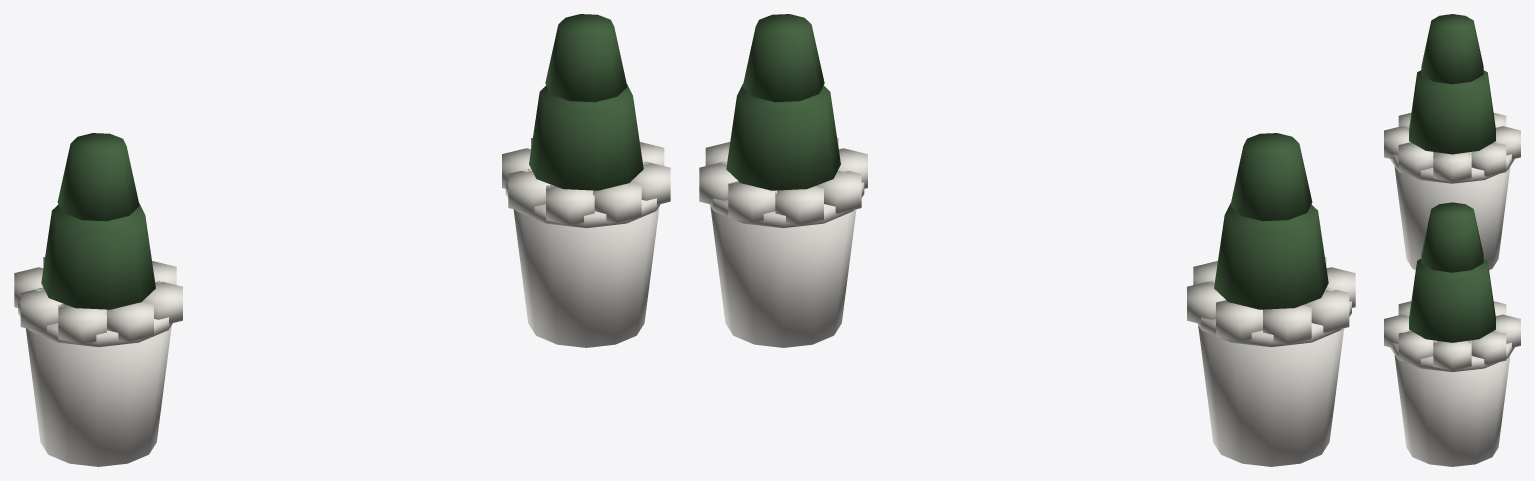
File: frontyard_porch_planters.glb
3 renders of one model, left to right at view 1: azimuth 30°, elevation 25°; view 2: azimuth 150°, elevation 25°; view 3: azimuth 270°, elevation 25°, orthographic. The views are drawn at different scales.
Visible parts, largest first — view 1: root; view 2: root; view 3: root.
Part boxes in pixels (bbox=[...]): root: bbox=[14, 14, 670, 466]; root: bbox=[699, 14, 1355, 466]; root: bbox=[1384, 14, 1520, 466].
Size of the model in its own units: 2.41 by 1.07 by 0.5607.
